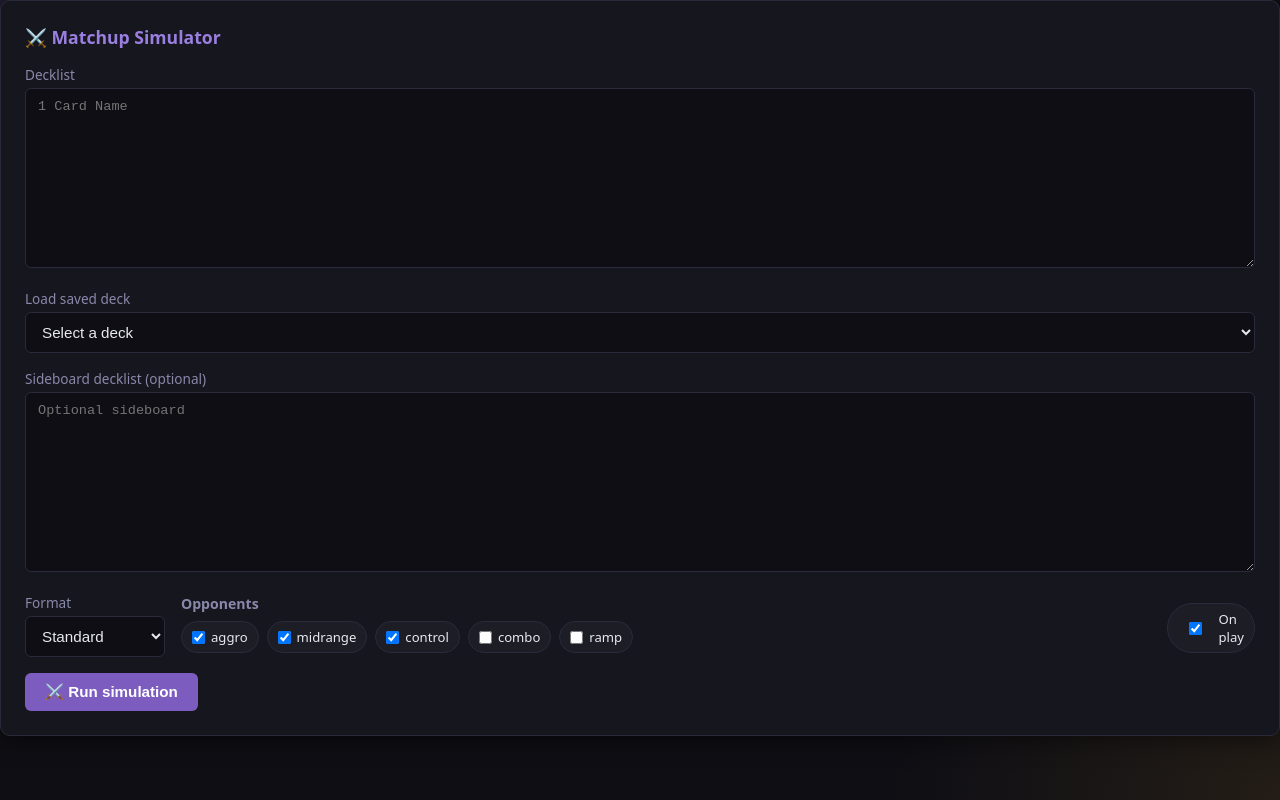
Test: MatchupSimulator › handles selecting saved deck with missing cards array
Select "Deck without cards (modern)" in the dropdown showing "Select a deck" below "Load saved deck" at (640, 332), box [25,312,1255,353]
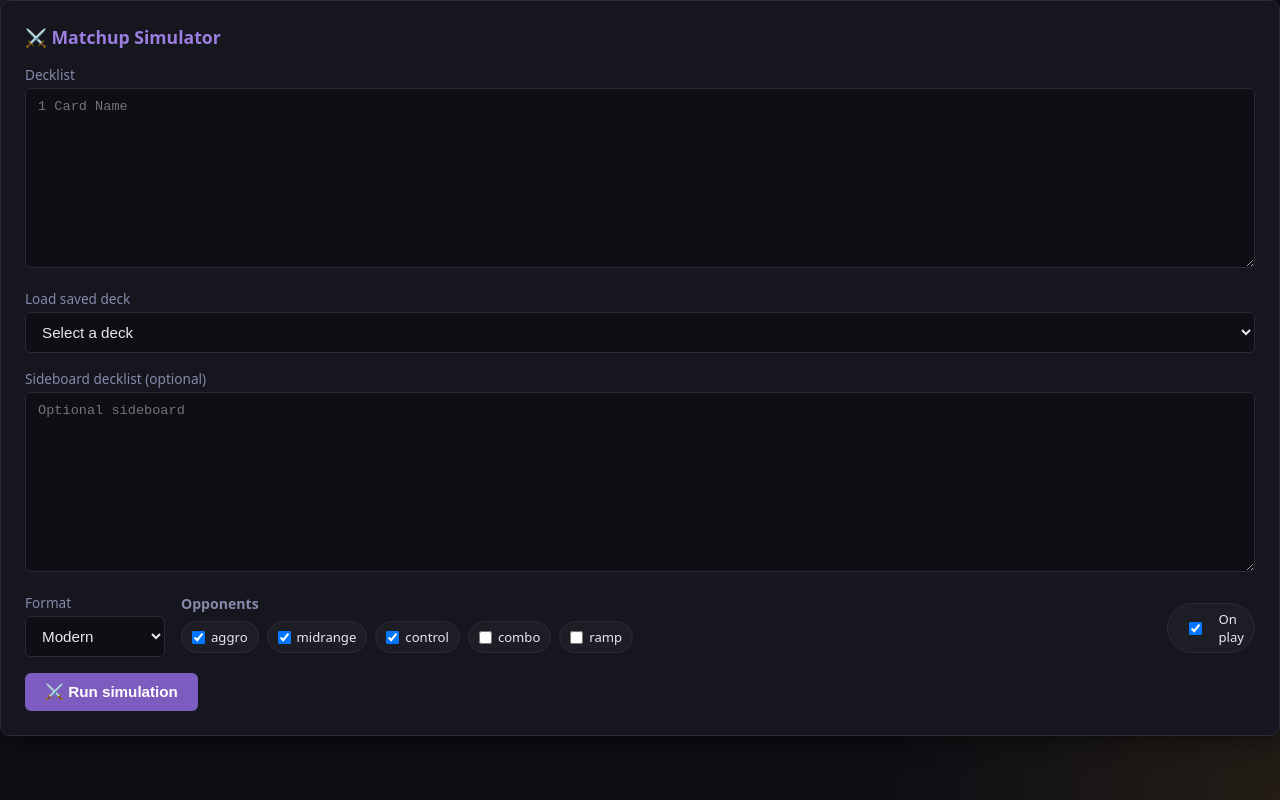
Check: the dropdown showing "Modern" below "Format" is shown, box [25,616,165,657]
